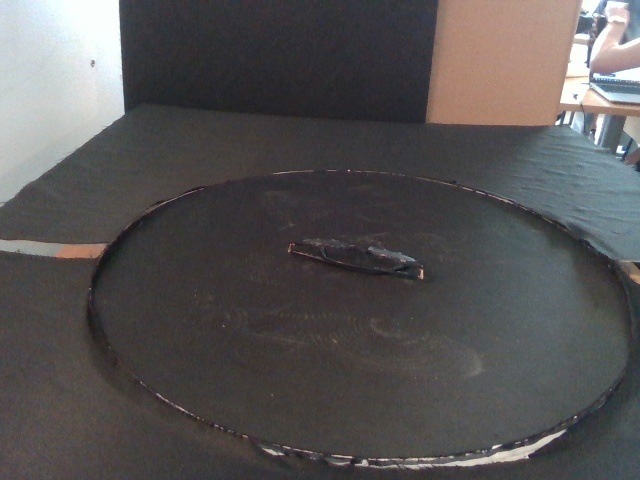glasses: (286, 237, 425, 283)
